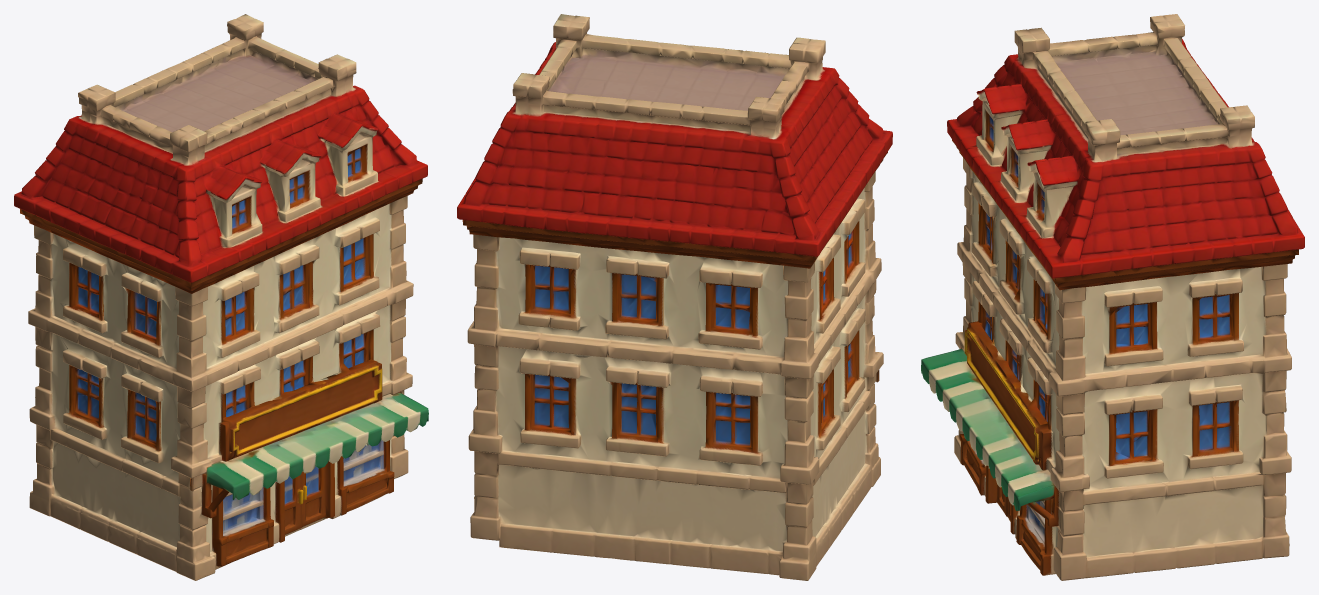
File: shop-3-web.glb
3 views of the same model, side by side, from view 1: azimuth 30°, elevation 25°; view 2: azimuth 150°, elevation 25°; view 3: azimuth 270°, elevation 25° (orthographic). The views are drawn at different scales.
Parts seen in each view (by area): view 1: tripo_node_bcdbb44b-40af-4833-83d1-edb53f8b43d0; view 2: tripo_node_bcdbb44b-40af-4833-83d1-edb53f8b43d0; view 3: tripo_node_bcdbb44b-40af-4833-83d1-edb53f8b43d0.
Part boxes in pixels (x1=…): tripo_node_bcdbb44b-40af-4833-83d1-edb53f8b43d0: x1=14, y1=14, x2=428, y2=580; tripo_node_bcdbb44b-40af-4833-83d1-edb53f8b43d0: x1=457, y1=14, x2=892, y2=580; tripo_node_bcdbb44b-40af-4833-83d1-edb53f8b43d0: x1=921, y1=14, x2=1304, y2=580.
Size of the model in its own units: 10.33 by 12 by 9.58.
Materials: 1 (1 with a texture image).
